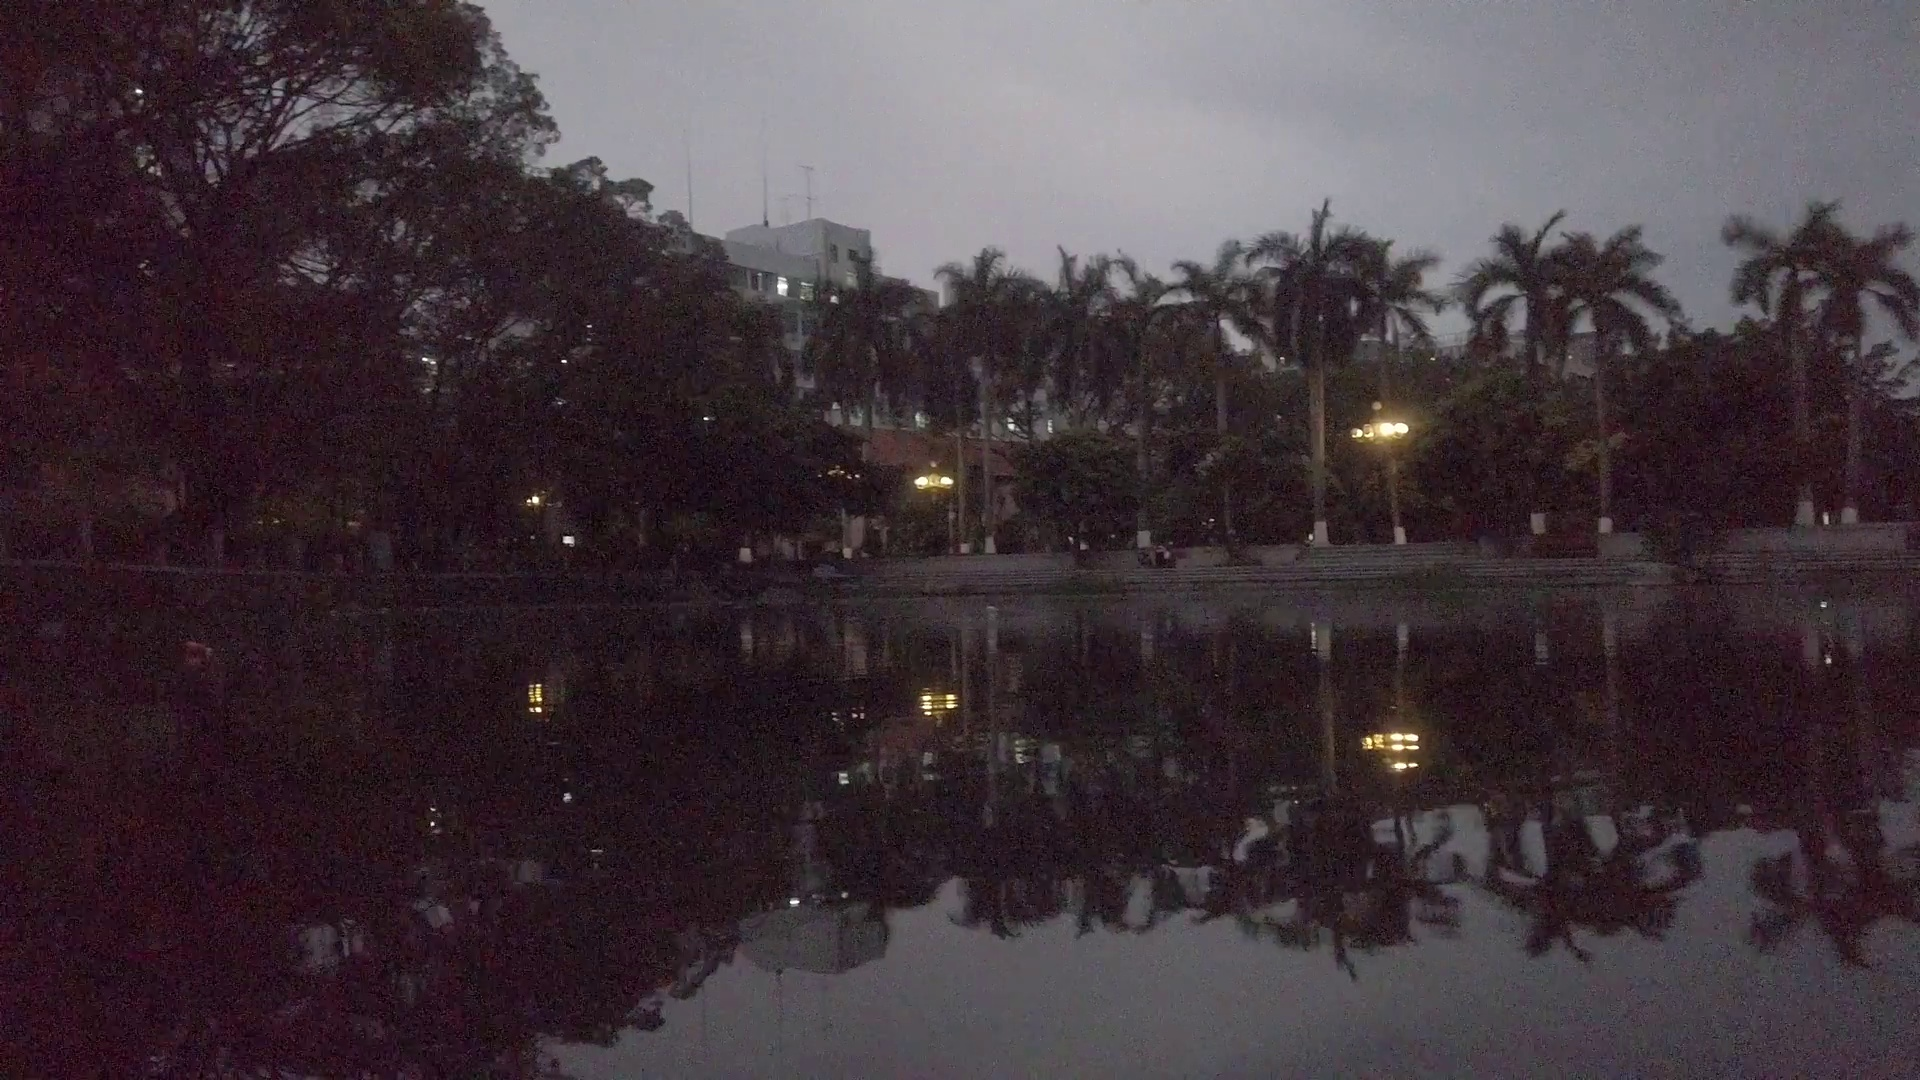bottle: (185, 638, 218, 659), (982, 604, 1004, 617)
